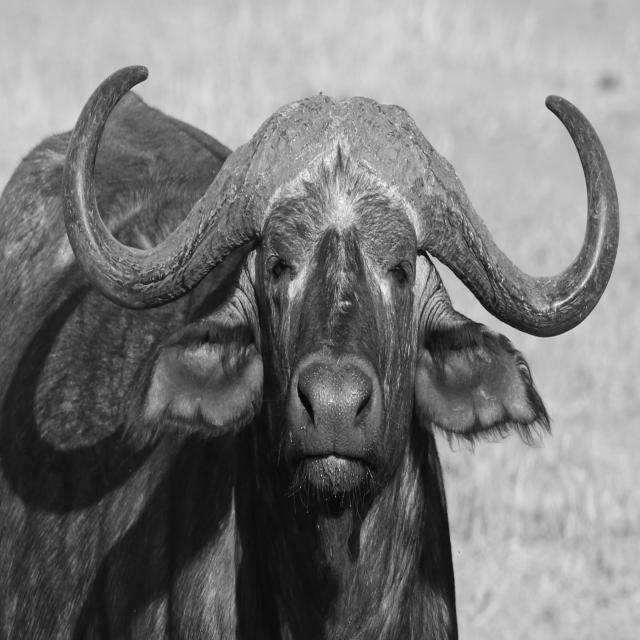Buffalo: (0, 66, 619, 632)
